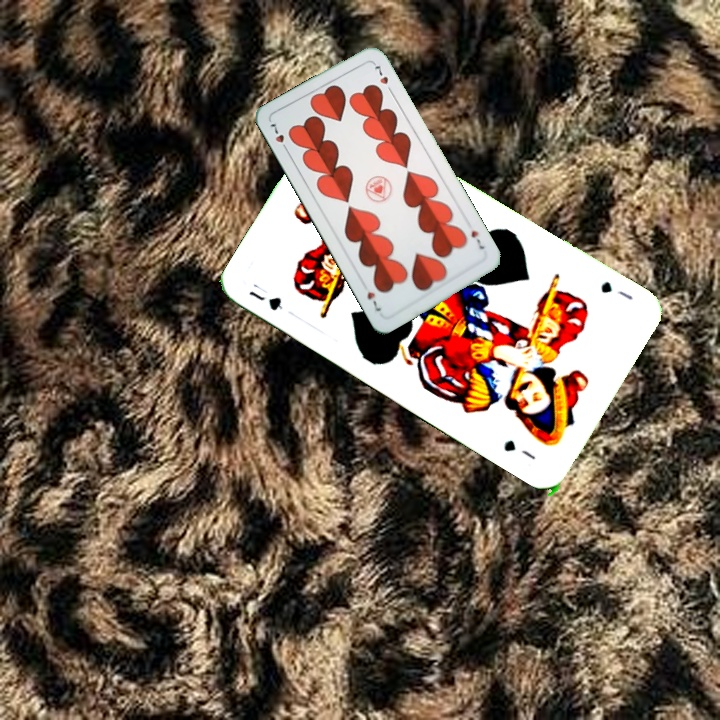GU: (245, 286, 286, 314), (596, 277, 636, 303)
H7: (266, 117, 291, 155), (467, 226, 487, 252)
